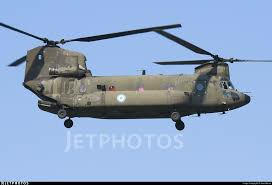chinook: (3, 23, 262, 131)
